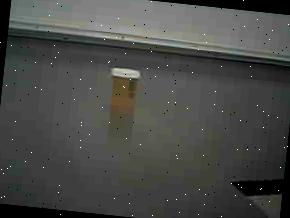Bottle B: (102, 61, 149, 119)
